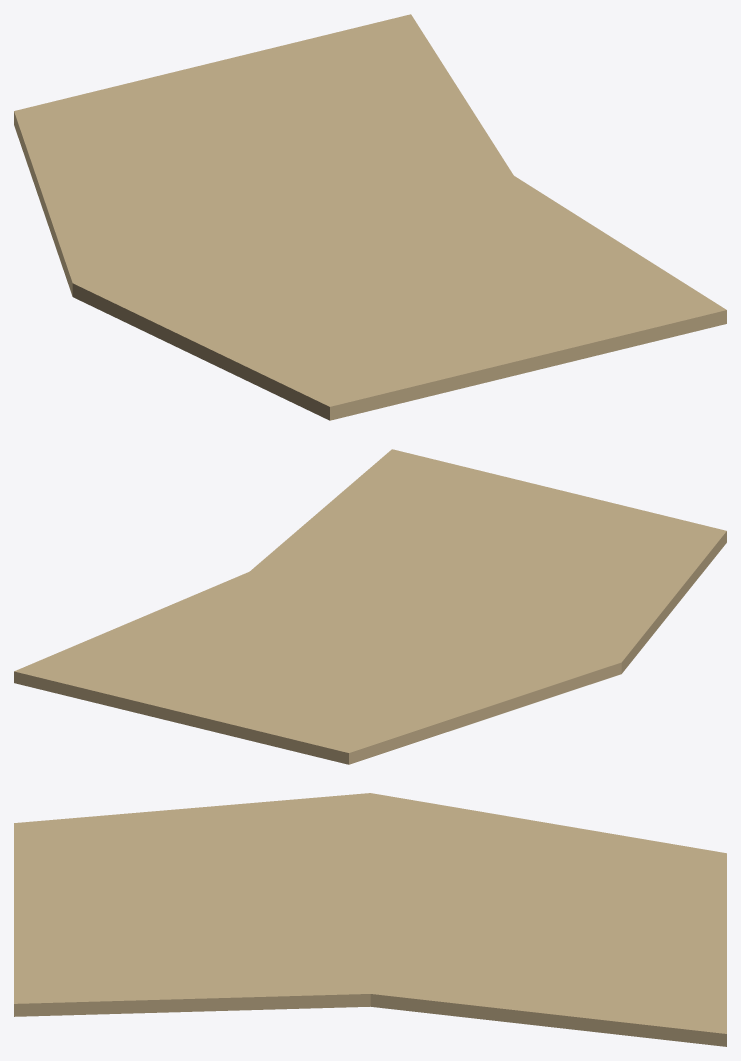
3 renders of one model, top to bottom at view 1: azimuth 30°, elevation 25°; view 2: azimuth 150°, elevation 25°; view 3: azimuth 270°, elevation 25°, orthographic. The views are drawn at different scales.
Parts seen in each view (by area): view 1: 独立弯折步道纸片.001; view 2: 独立弯折步道纸片.001; view 3: 独立弯折步道纸片.001.
Boxes of the visible parts, left/top/right/bottom form: 独立弯折步道纸片.001: left=14, top=14, right=726, bottom=420; 独立弯折步道纸片.001: left=14, top=449, right=726, bottom=764; 独立弯折步道纸片.001: left=14, top=793, right=726, bottom=1046.
Bounding box in the file's own units: 0.48 × 0.012 × 0.6.
